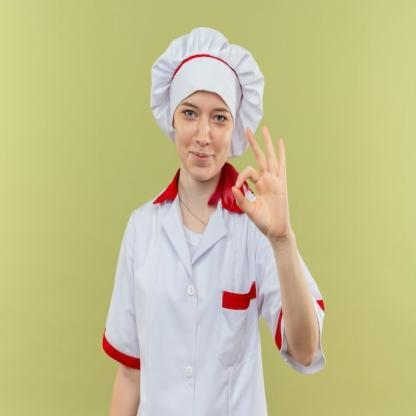ok: (229, 124, 292, 244)
